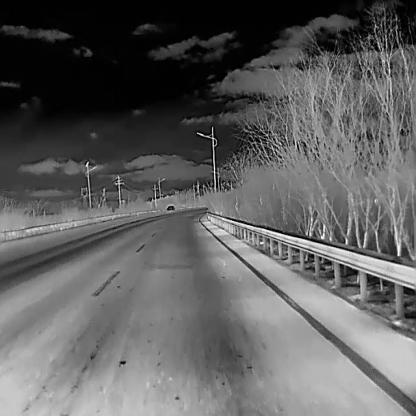car: (166, 205, 175, 210)
